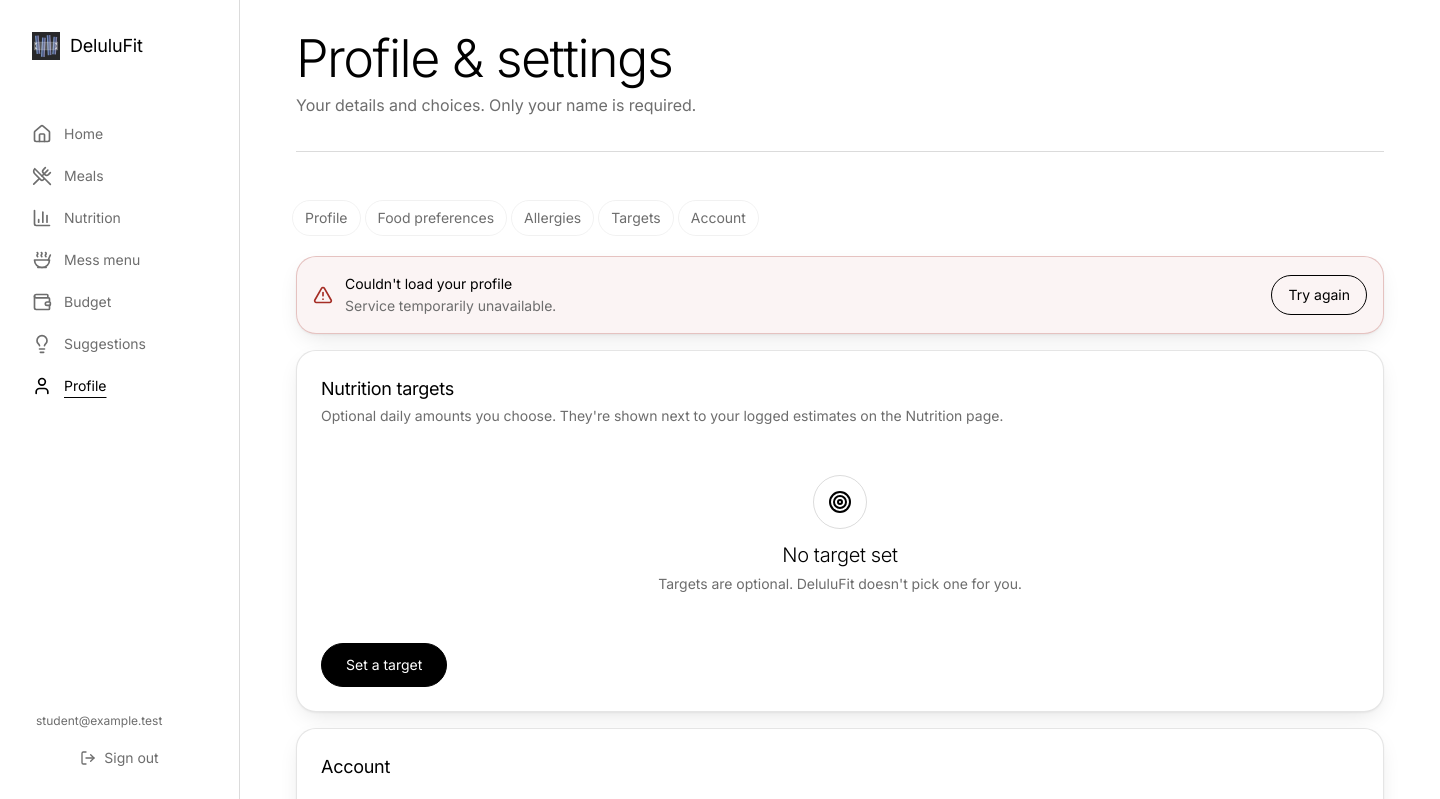
Scenario: personal profile › shows a recoverable error when the profile can't load
Expected: the text "Service temporarily unavailable." is shown, [345,297,556,314]
Click the button "Try again" at coordinates (1319, 295), box [1272,275,1367,315]
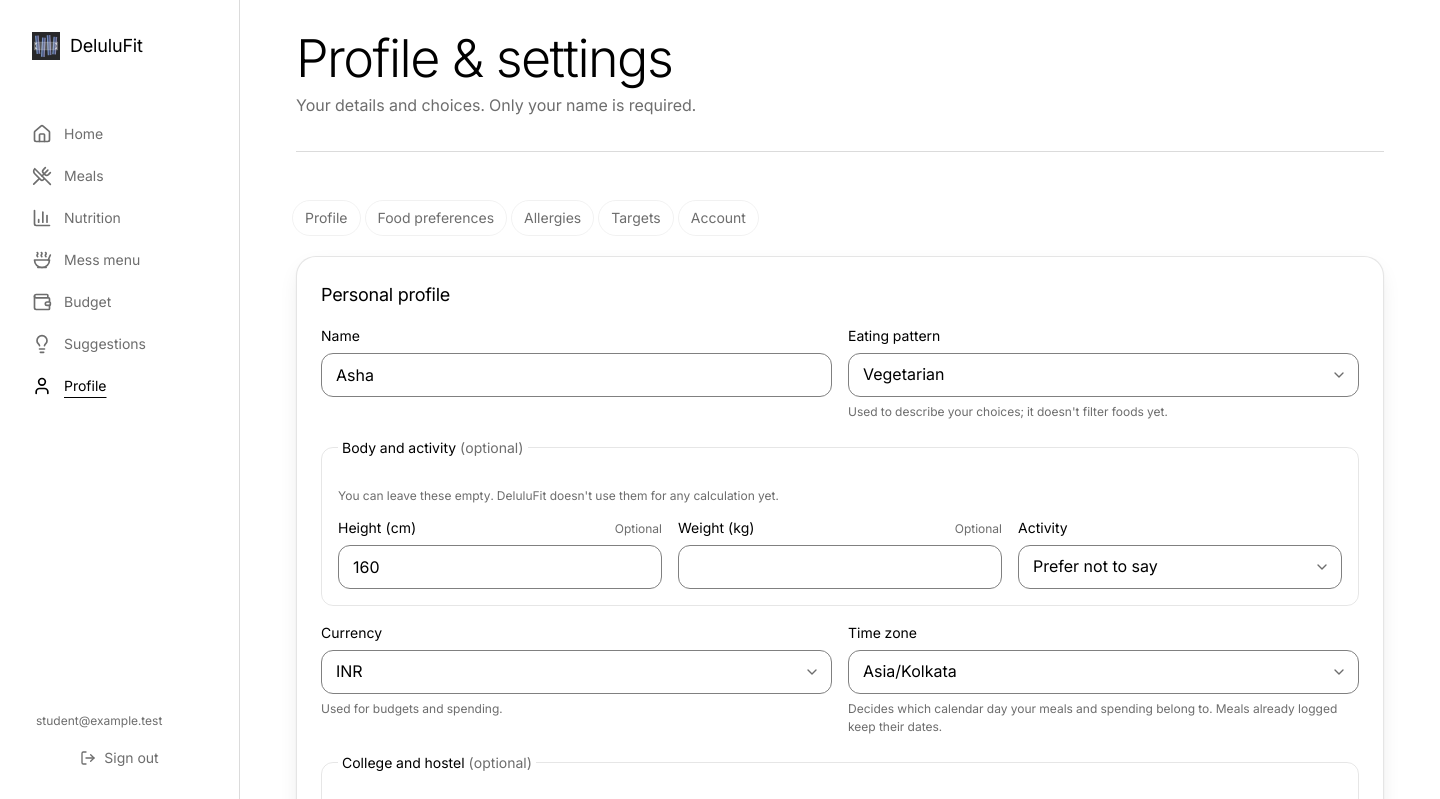
Now the field labelled "Name" holds "Asha", box [321,353,832,397]
